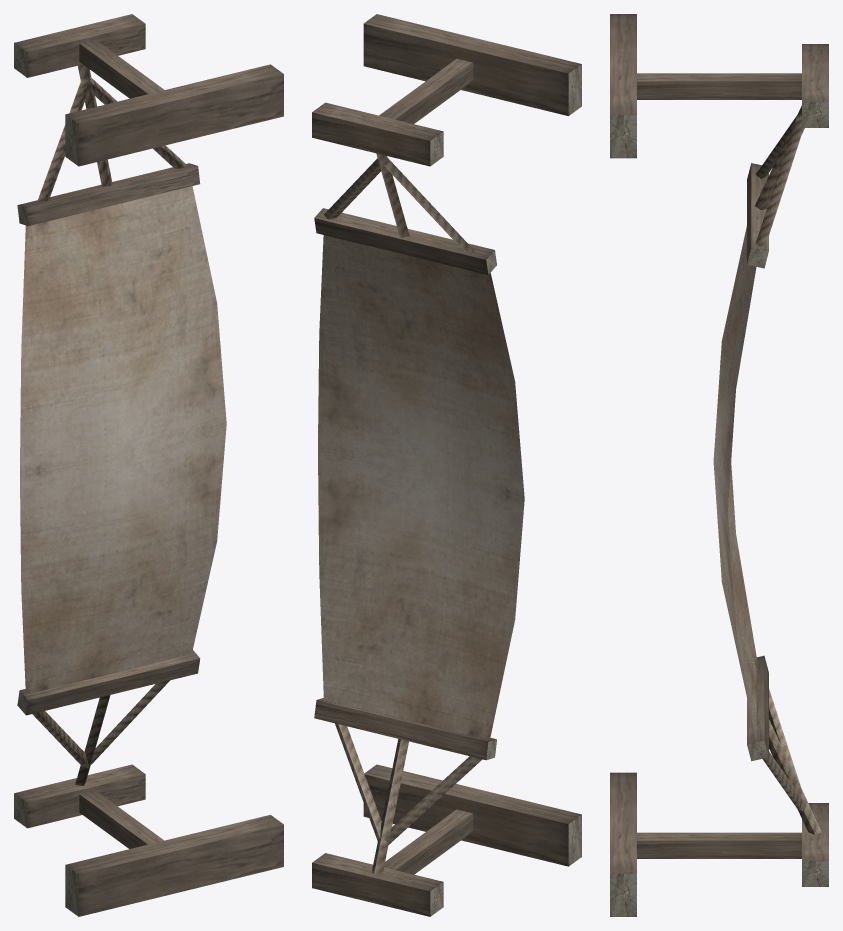
The model's file is Hammock_A.fbx.
3 renders of one model, left to right at view 1: azimuth 30°, elevation 25°; view 2: azimuth 150°, elevation 25°; view 3: azimuth 270°, elevation 25°, orthographic.
Visible parts, largest first — view 1: Hammock_A; view 2: Hammock_A; view 3: Hammock_A.
Part boxes in pixels (box(x1,y1,x2,y2)): Hammock_A: box(14, 14, 283, 916); Hammock_A: box(312, 14, 581, 916); Hammock_A: box(610, 14, 828, 916).
Size of the model in its own units: 1.26 by 4.63 by 1.14.
